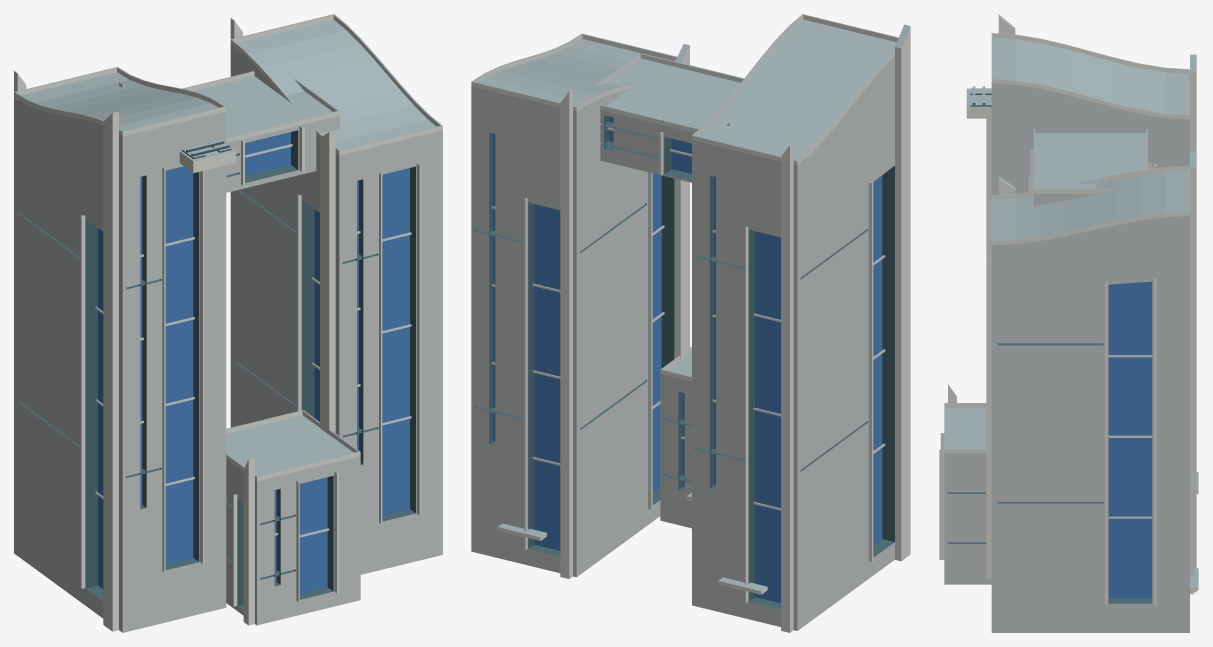
The model's file is 18_Himmelsbruecke.obj.
3 renders of one model, left to right at view 1: azimuth 30°, elevation 25°; view 2: azimuth 150°, elevation 25°; view 3: azimuth 270°, elevation 25°, orthographic. The views are drawn at different scales.
Size of the model in its own units: 0.6688 by 1 by 0.4968.
